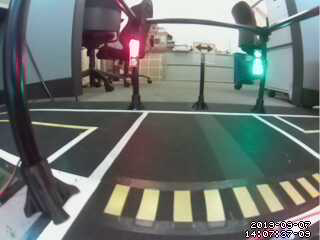Left_Right_sign: (191, 41, 218, 56)
Traffic_light_green: (253, 49, 263, 76)
Traffic_light_red: (130, 39, 141, 66)
